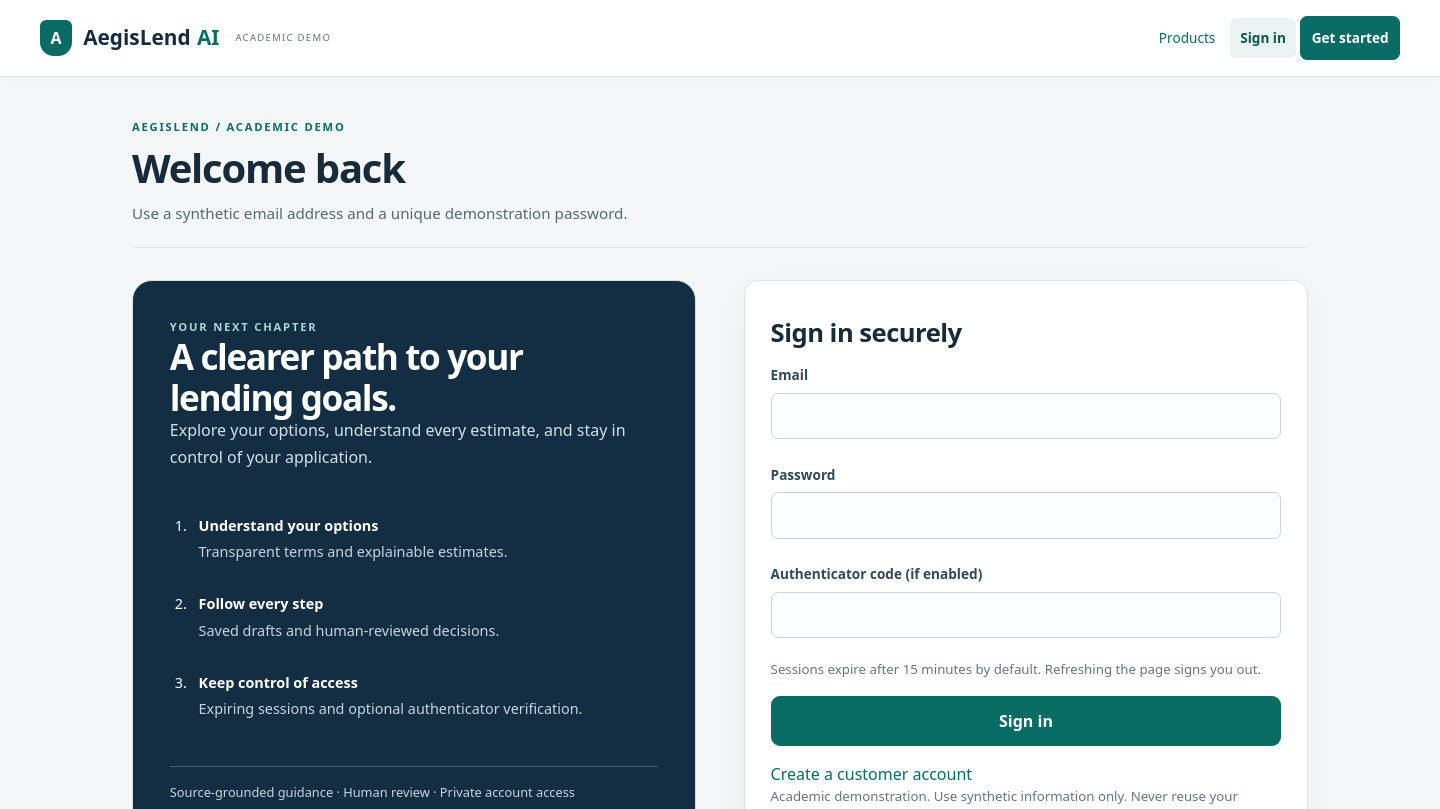
Test: login attaches bearer token, loads dashboard and logout clears it
In the field labelled "Email": (1026, 416) [771,393,1281,439], type "synthetic@example.com"
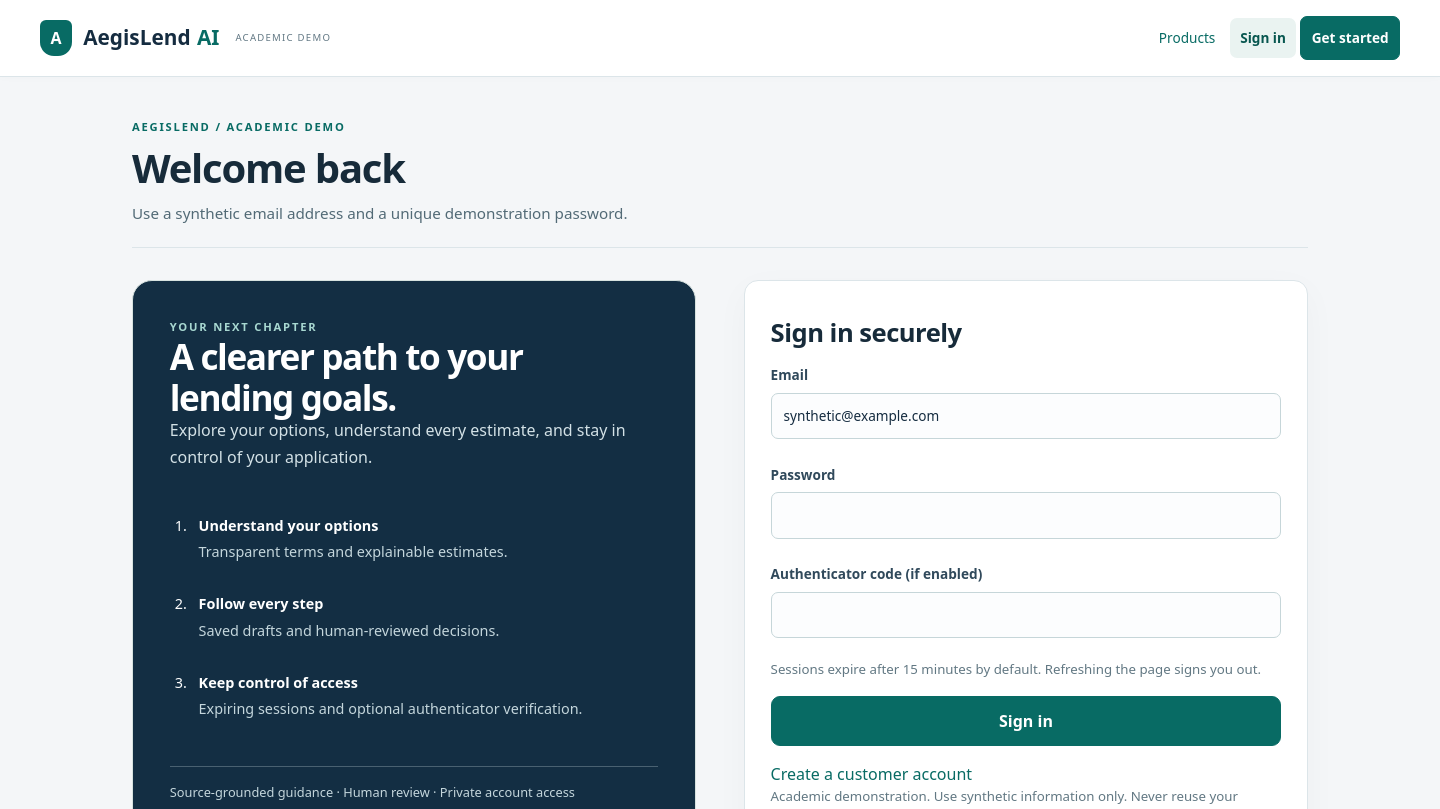
In the password field labelled "Password": (1026, 516) [771,492,1281,539], type "synthetic-test-input-only"
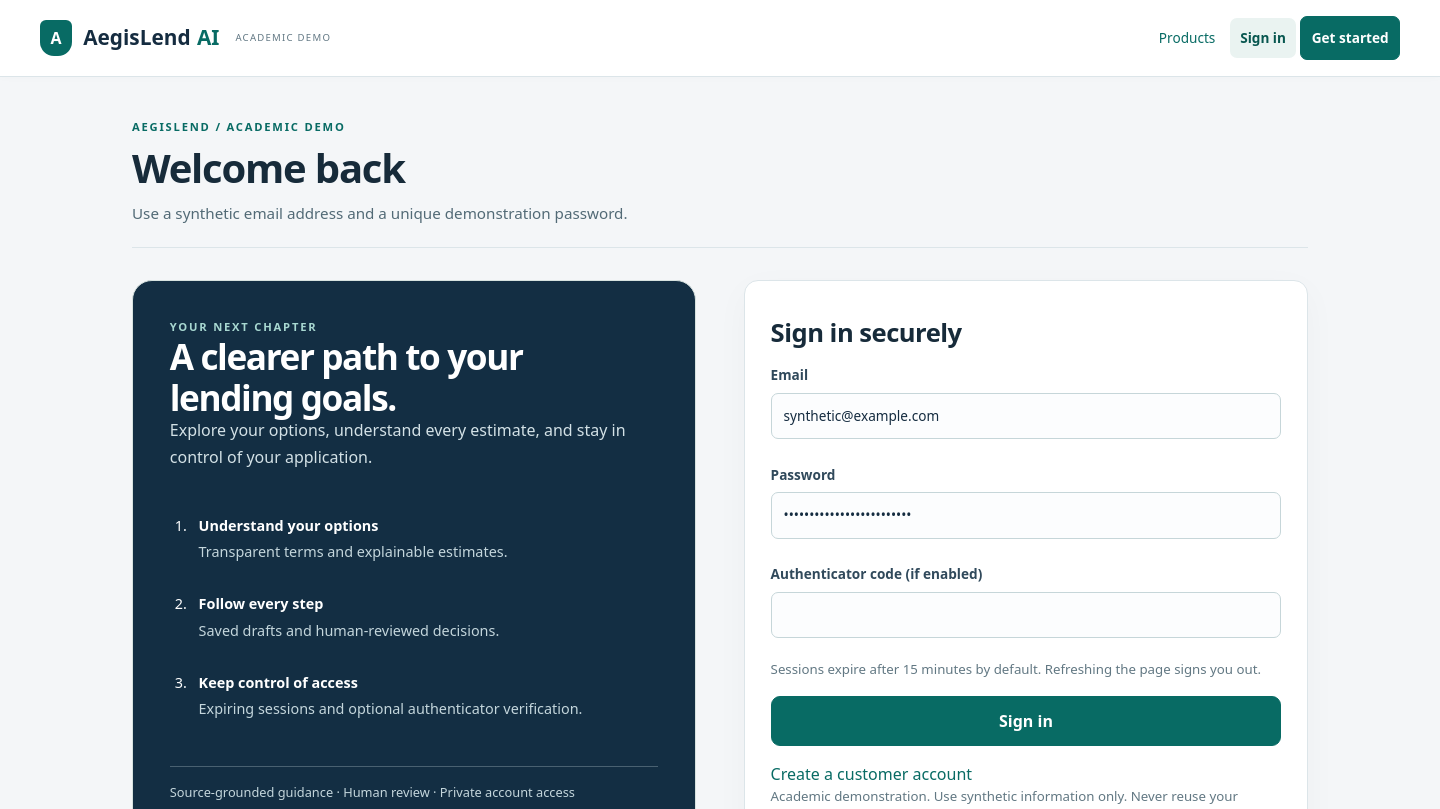
Click the button "Sign in": (1026, 721) [771,696,1281,746]
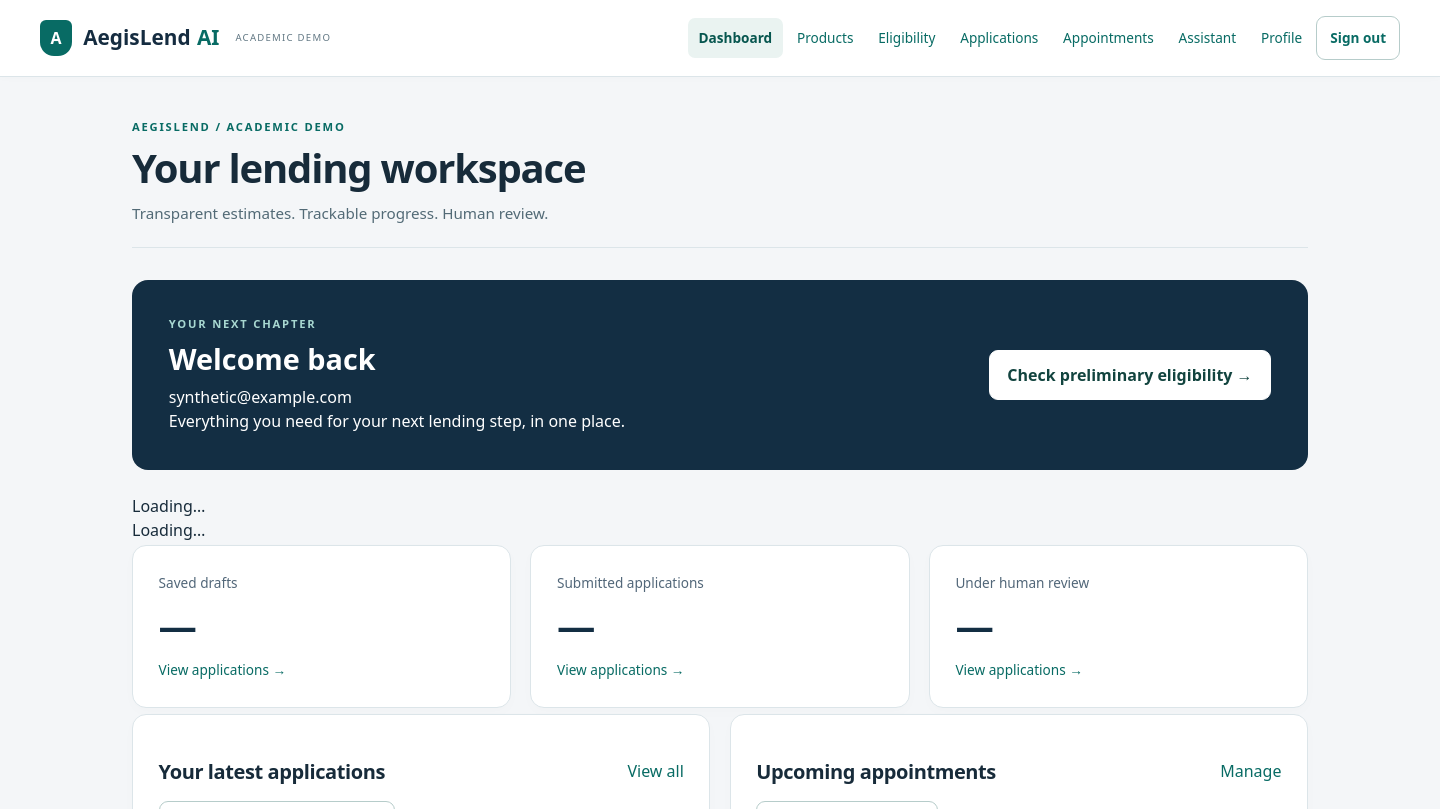
Check: the heading "Your lending workspace" is shown, box [132,140,585,195]
Click the button "Sign out": (1358, 38) [1316,16,1400,60]
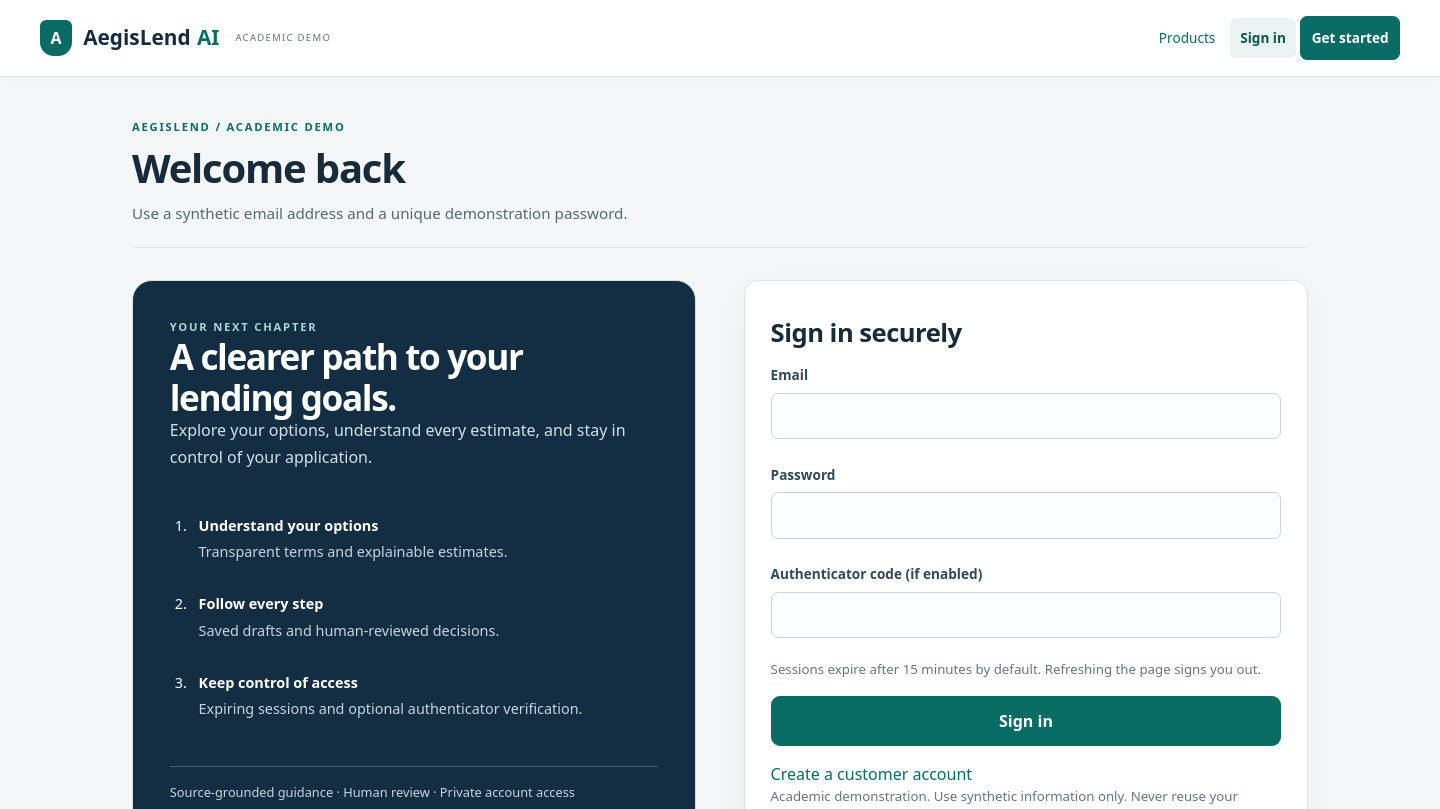
Check: the heading "Welcome back" is shown, box [132,140,405,195]
